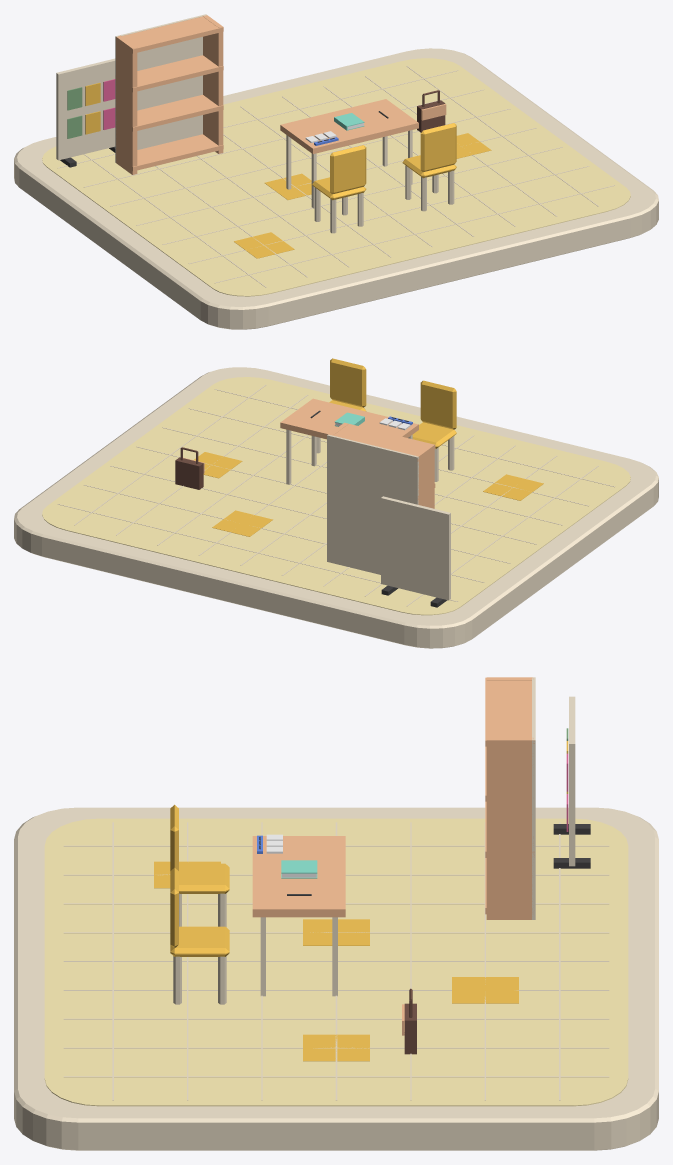
File: room.fbx
3 views of the same model, one above another, from view 1: azimuth 30°, elevation 25°; view 2: azimuth 150°, elevation 25°; view 3: azimuth 270°, elevation 25° (orthographic). The views are drawn at different scales.
Parts seen in each view (by area): view 1: COM-02 Floor Surface, COM-01 Rounded Base Direct, Top, Back, Panel, Side, Side.001, Shelf.003, Shelf, Shelf.001, Shelf.002, Backrest (+11 smaller); view 2: COM-02 Floor Surface, COM-01 Rounded Base Direct, Back, Panel, Top, Backrest, Backrest.001, Shelf.003, Side, Bag, Geometric color tile.002, Geometric color tile (+3 smaller); view 3: COM-02 Floor Surface, COM-01 Rounded Base Direct, Top, Side.001, Shelf.003, Geometric color tile.003, Geometric color tile.002, Geometric color tile.001, Seat.001, Seat, Panel, Grout X.008 (+8 smaller).
Part boxes in pixels (x1,y1,x2,y2): COM-02 Floor Surface: (42, 58, 630, 296); COM-01 Rounded Base Direct: (14, 48, 658, 329); Top: (280, 99, 418, 208); Back: (115, 14, 206, 162); Panel: (56, 58, 115, 160); Side: (116, 35, 137, 174); Side.001: (203, 15, 223, 153); Shelf.003: (122, 16, 223, 53); Shelf: (120, 134, 223, 171); Shelf.001: (116, 94, 223, 131); Shelf.002: (115, 55, 223, 92); Backrest: (330, 145, 366, 194); COM-02 Floor Surface: (42, 377, 630, 615); COM-01 Rounded Base Direct: (14, 367, 658, 648); Back: (327, 434, 418, 574); Panel: (381, 496, 450, 600); Top: (280, 398, 418, 484); Backrest: (420, 380, 456, 429); Backrest.001: (330, 358, 366, 407); Shelf.003: (333, 422, 435, 461); Side: (414, 444, 434, 508); Bag: (175, 447, 204, 489); Geometric color tile.002: (212, 510, 272, 536); Geometric color tile: (483, 474, 543, 500); COM-02 Floor Surface: (44, 818, 628, 1106); COM-01 Rounded Base Direct: (14, 807, 658, 1150); Top: (252, 836, 345, 996); Side.001: (486, 737, 533, 919); Shelf.003: (485, 677, 534, 746); Geometric color tile.003: (303, 1034, 369, 1061); Geometric color tile.002: (452, 977, 518, 1003); Geometric color tile.001: (303, 919, 369, 945); Seat.001: (170, 926, 229, 956); Seat: (179, 863, 229, 893); Panel: (569, 696, 575, 866); Grout X.008: (63, 1076, 609, 1077).
Size of the model in its own units: 600 by 190 by 520.
